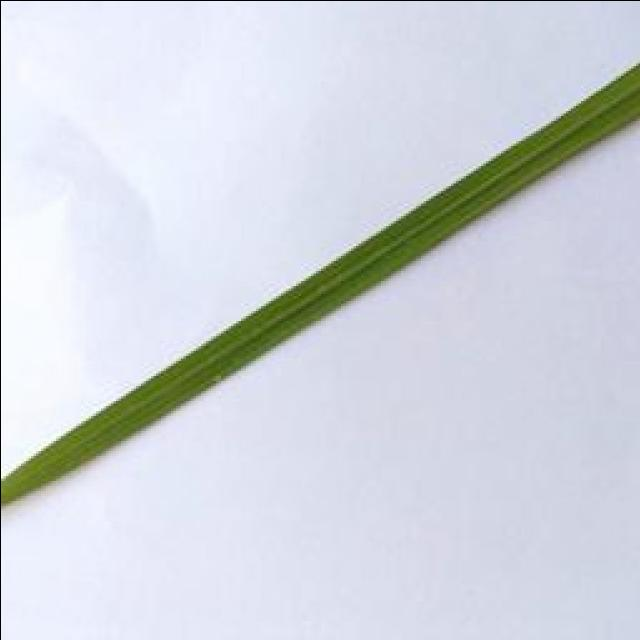Healthy: (0, 60, 640, 508)
